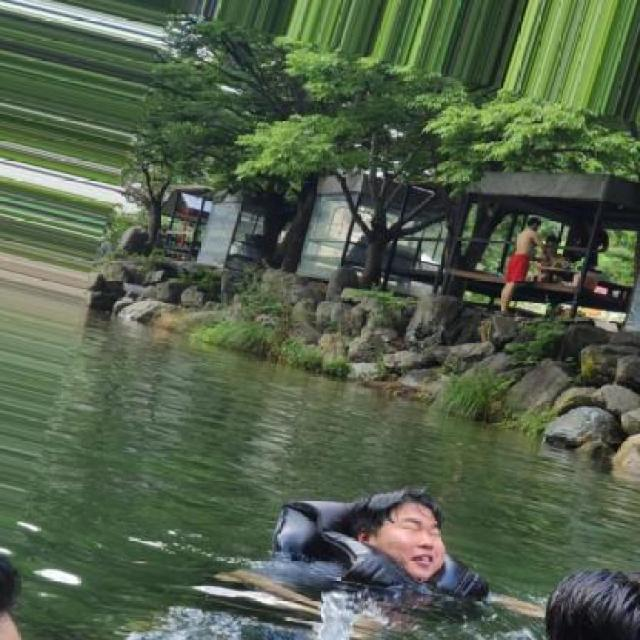drowning: (6, 432, 529, 640)
